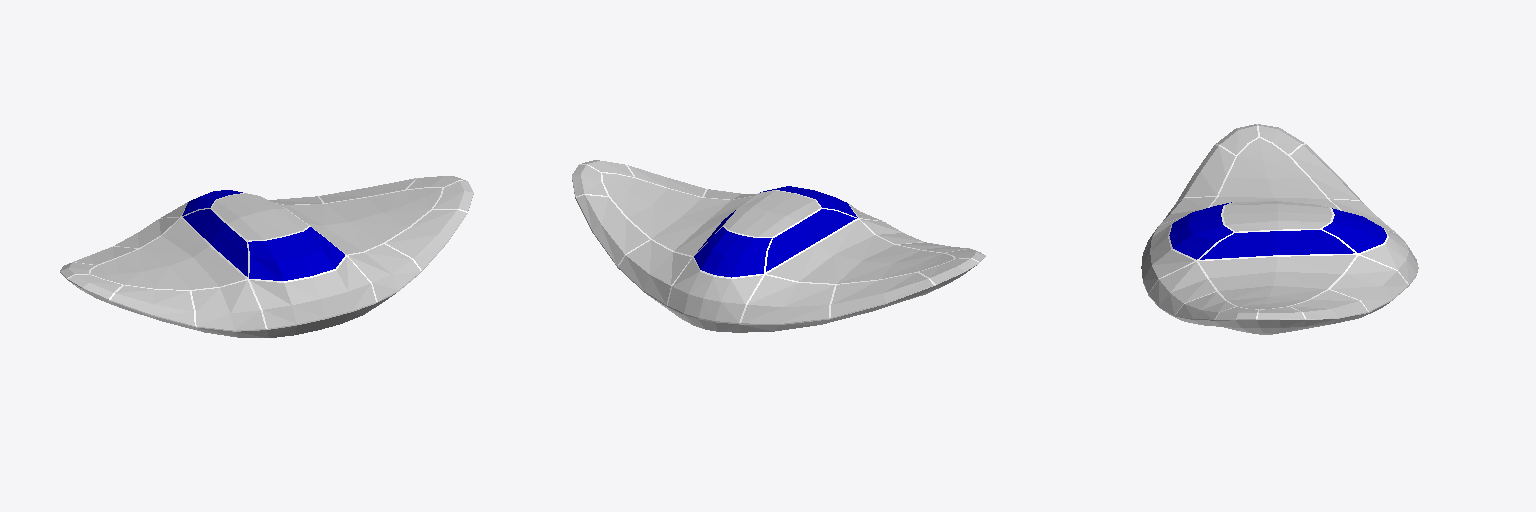
File: stingray.obj
The picture shows the model from 3 angles: view 1: azimuth 30°, elevation 25°; view 2: azimuth 150°, elevation 25°; view 3: azimuth 270°, elevation 25°; orthographic projection.
Parts seen in each view (by area): view 1: Cube.015; view 2: Cube.015; view 3: Cube.015.
Boxes of the visible parts, x1=… form: Cube.015: x1=60, y1=176, x2=473, y2=337; Cube.015: x1=572, y1=160, x2=985, y2=332; Cube.015: x1=1141, y1=124, x2=1418, y2=334.
Size of the model in its own units: 4.89 by 1.03 by 2.93.